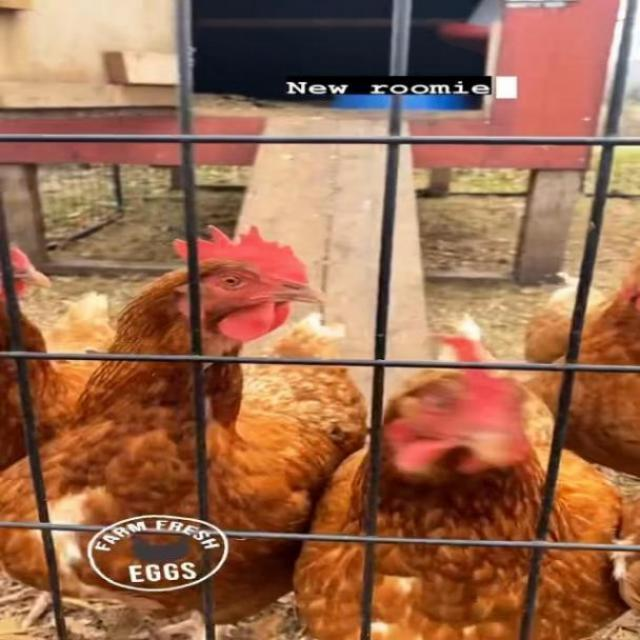Chicken: (0, 225, 366, 639), (289, 313, 628, 640), (526, 253, 640, 482), (0, 241, 114, 467)
